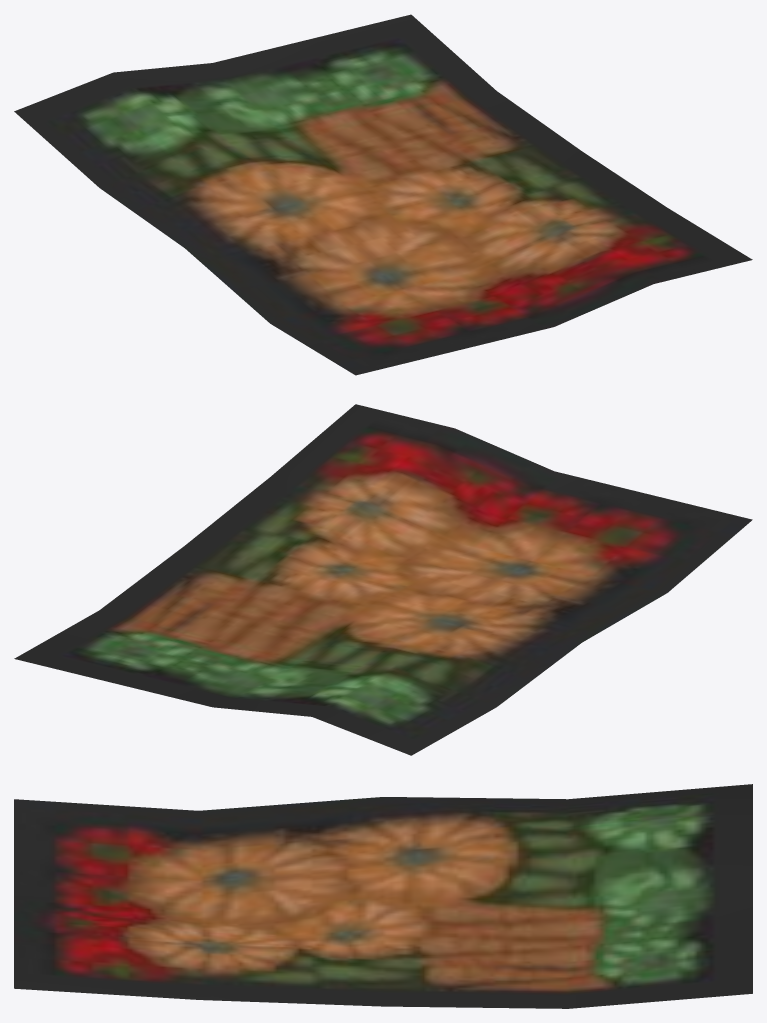
The model's file is donkey-veg-slice-base.glb.
3 renders of one model, top to bottom at view 1: azimuth 30°, elevation 25°; view 2: azimuth 150°, elevation 25°; view 3: azimuth 270°, elevation 25°, orthographic. The views are drawn at different scales.
Size of the model in its own units: 0.5669 by 0.0537 by 0.8442.
Materials: 1 (1 with a texture image).
